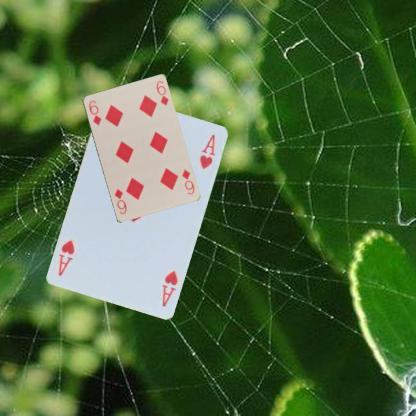6d: (179, 167, 195, 196), (86, 98, 102, 126)
Ah: (159, 267, 179, 308)
